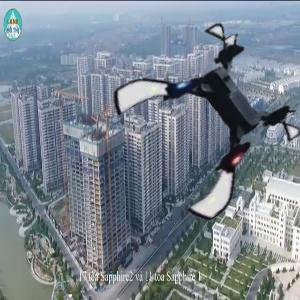drone: (128, 41, 295, 208)
